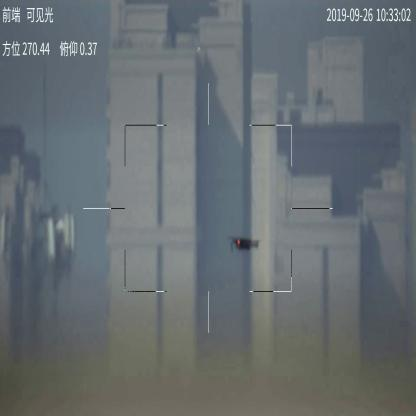uav: (225, 233, 262, 253)
